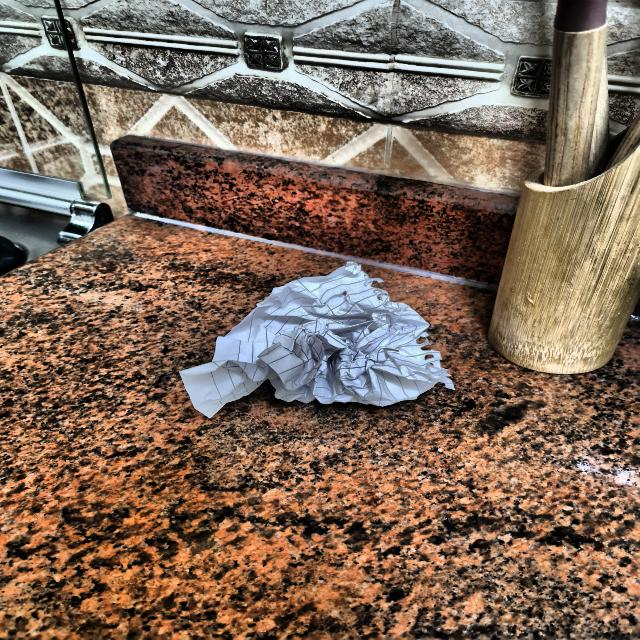Paper: (178, 258, 456, 421)
